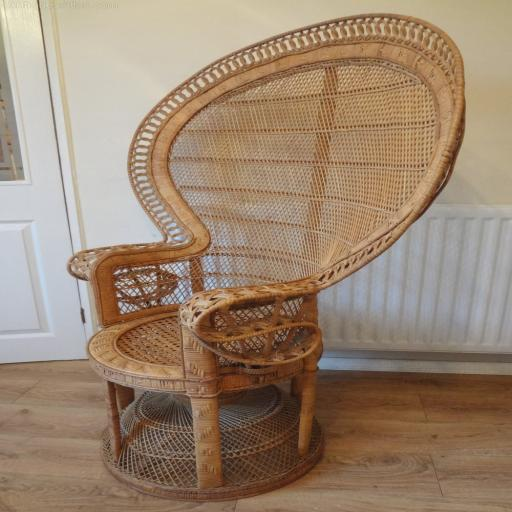Door: (0, 0, 92, 364)
chair: (66, 12, 466, 502)
wall: (47, 0, 512, 371)
